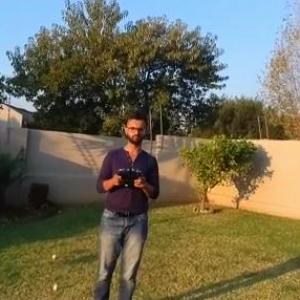follow: (90, 105, 165, 299)
